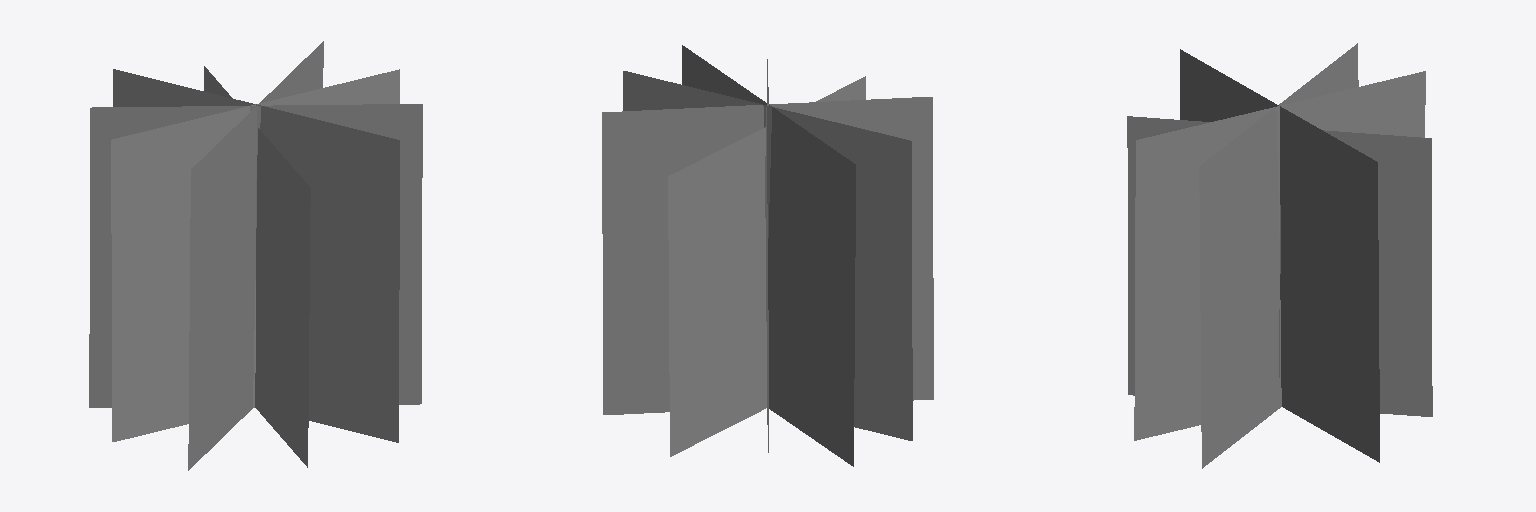
The model's file is SeaPlant01_blend.obj.
3 views of the same model, side by side, from view 1: azimuth 30°, elevation 25°; view 2: azimuth 150°, elevation 25°; view 3: azimuth 270°, elevation 25° (orthographic).
Parts seen in each view (by area): view 1: Untitled.001_SeaPlantOne128, Untitled_SeaPlantOne256; view 2: Untitled.001_SeaPlantOne128, Untitled_SeaPlantOne256; view 3: Untitled.001_SeaPlantOne128, Untitled_SeaPlantOne256.
Part boxes in pixels (bbox=[...]): Untitled.001_SeaPlantOne128: bbox=[89, 41, 422, 470]; Untitled_SeaPlantOne256: bbox=[89, 43, 422, 468]; Untitled.001_SeaPlantOne128: bbox=[602, 45, 933, 466]; Untitled_SeaPlantOne256: bbox=[602, 46, 933, 465]; Untitled.001_SeaPlantOne128: bbox=[1127, 43, 1432, 468]; Untitled_SeaPlantOne256: bbox=[1127, 44, 1432, 467].
Bounding box in the file's own units: 3.5 × 3.5 × 3.21.